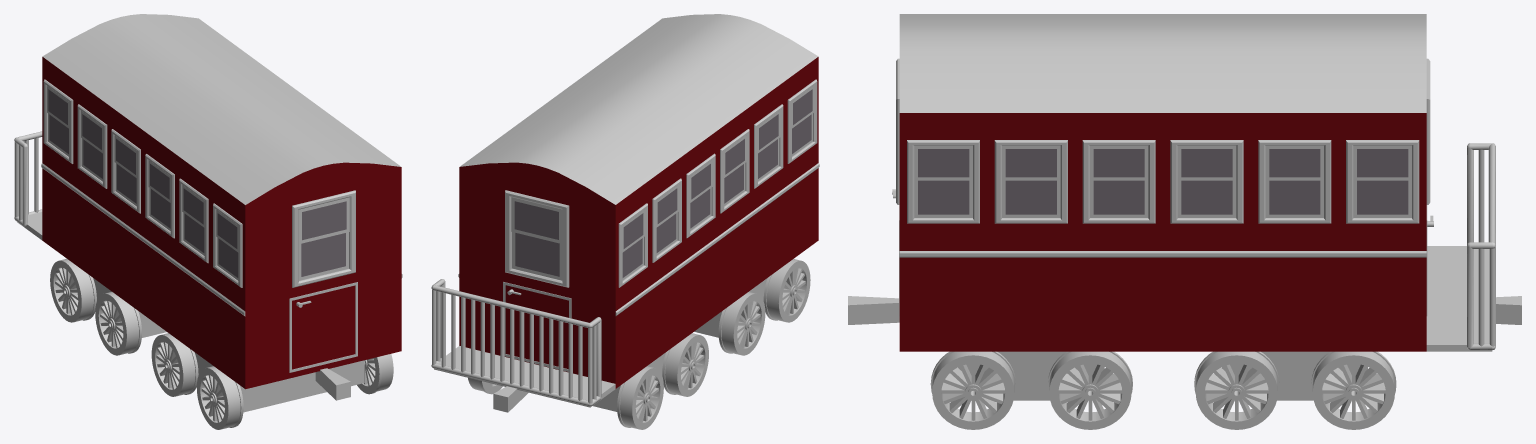
File: Passengers.dae
3 views of the same model, side by side, from view 1: azimuth 30°, elevation 25°; view 2: azimuth 150°, elevation 25°; view 3: azimuth 270°, elevation 25° (orthographic). The views are drawn at different scales.
Visible parts, largest first — view 1: Car, Roof, Gold, Glass, Wheel1, Turn1, Wheel2, Wheel3, Wheel4, Backframe, Platform, Turn2; view 2: Car, Roof, Gold, Backframe, Glass, Platform, Wheel4, Wheel2, Wheel1, Wheel3, Turn2, Turn1; view 3: Car, Roof, Gold, Glass, Platform, Wheel2, Wheel1, Wheel4, Wheel3, Backframe, Turn1, Turn2.
Part boxes in pixels (box(x1,y1,x2,y2)): Car: box(42, 57, 401, 389); Roof: box(42, 14, 400, 204); Gold: box(41, 79, 402, 372); Glass: box(48, 89, 346, 277); Wheel1: box(196, 354, 393, 429); Turn1: box(194, 352, 364, 412); Wheel2: box(151, 333, 195, 396); Wheel3: box(95, 292, 138, 355); Wheel4: box(50, 258, 93, 322); Backframe: box(14, 131, 42, 226); Platform: box(17, 212, 350, 400); Turn2: box(93, 278, 166, 337); Car: box(459, 57, 818, 388); Roof: box(460, 14, 818, 204); Gold: box(458, 79, 819, 371); Backframe: box(431, 279, 601, 406); Glass: box(514, 89, 812, 277); Platform: box(434, 346, 615, 412); Wheel4: box(468, 366, 663, 429); Wheel2: box(721, 292, 765, 355); Wheel1: box(766, 259, 810, 322); Wheel3: box(665, 333, 708, 396); Turn2: box(593, 352, 665, 411); Turn1: box(694, 278, 767, 337); Car: box(899, 113, 1426, 351); Roof: box(899, 14, 1426, 112); Gold: box(896, 58, 1430, 316); Glass: box(918, 149, 1408, 214); Platform: box(848, 246, 1521, 351); Wheel2: box(1049, 351, 1131, 429); Wheel1: box(932, 351, 1014, 429); Wheel4: box(1312, 351, 1394, 429); Wheel3: box(1195, 351, 1277, 429); Backframe: box(1467, 143, 1495, 350); Turn1: box(958, 351, 1104, 400); Turn2: box(1221, 351, 1367, 400).
Bounding box in the file's own units: 34.2 × 51.56 × 92.09.
